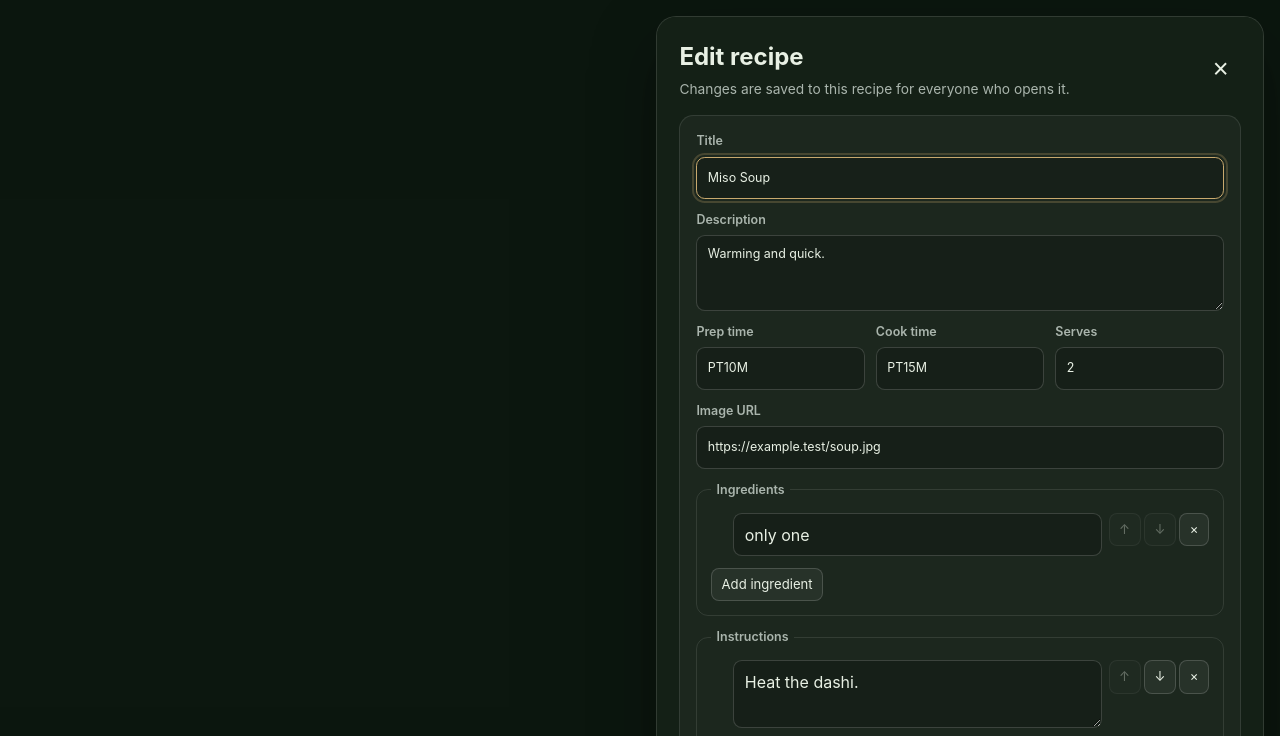
Test: RecipeEditor › keeps one blank row rather than emptying the list entirely
Click the button named "Remove ingredient 1".
click(1194, 530)  # box top-left (1179, 513), bottom-right (1209, 546)
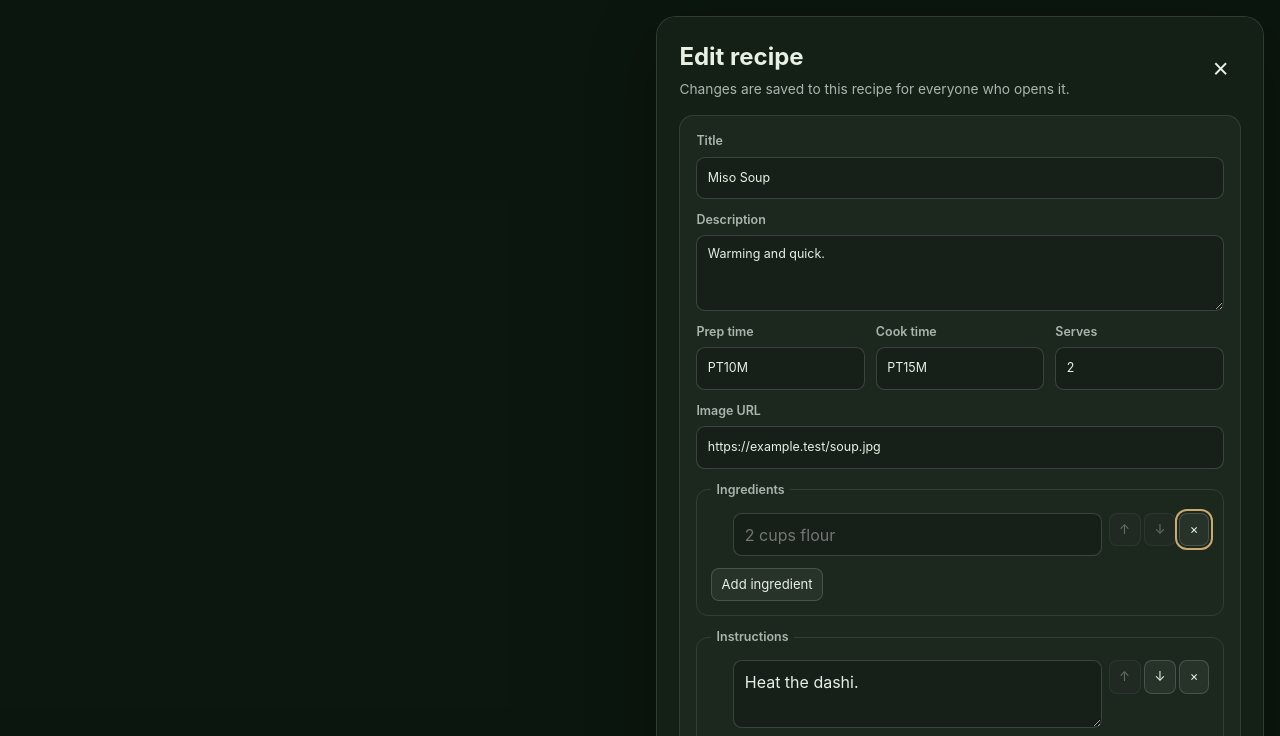
Expected: the field named "Ingredient 1" is empty, top-left (733, 513), bottom-right (1102, 556)
